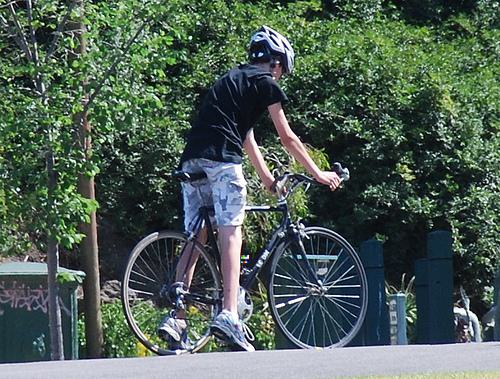car: (121, 162, 370, 357)
person: (161, 24, 344, 352)
